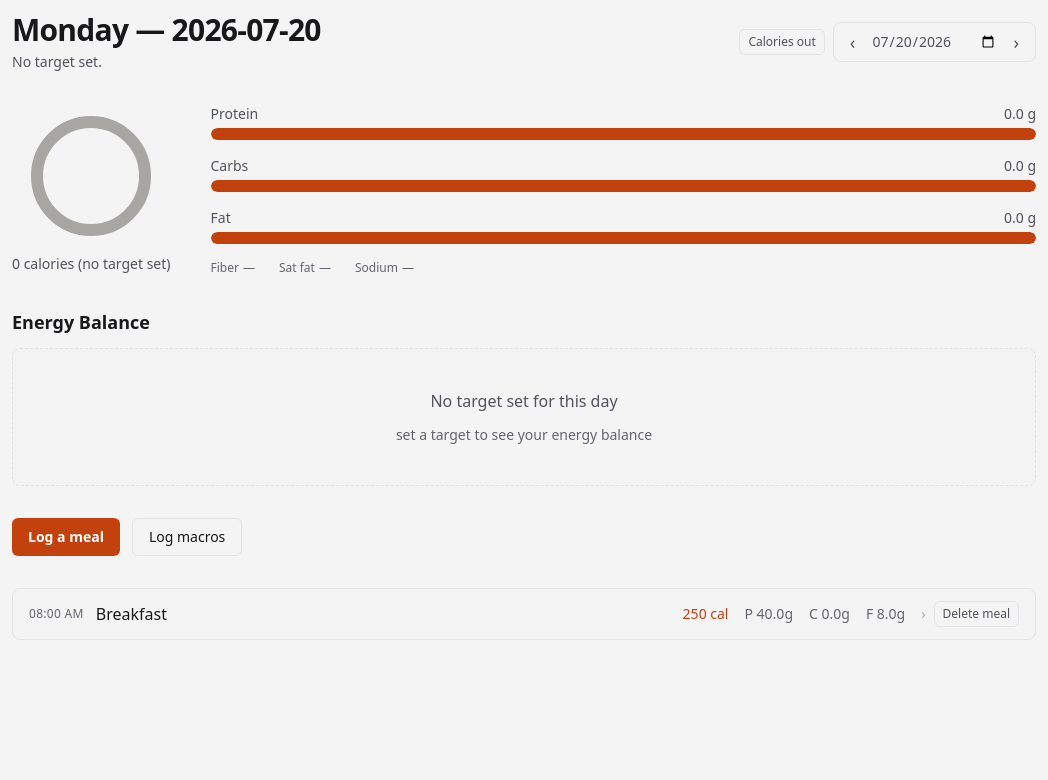
Test: DayView › expands and collapses a meal group
The width and height of the screenshot is (1048, 780).
Check: the text "Chicken breast" is not shown
Step 1. Click the button "08:00 AM Breakfast 250 cal P 40.0g C 0.0g F 8.0g ›" → coordinates (56, 614), box x1=29 y1=602 x2=926 y2=626
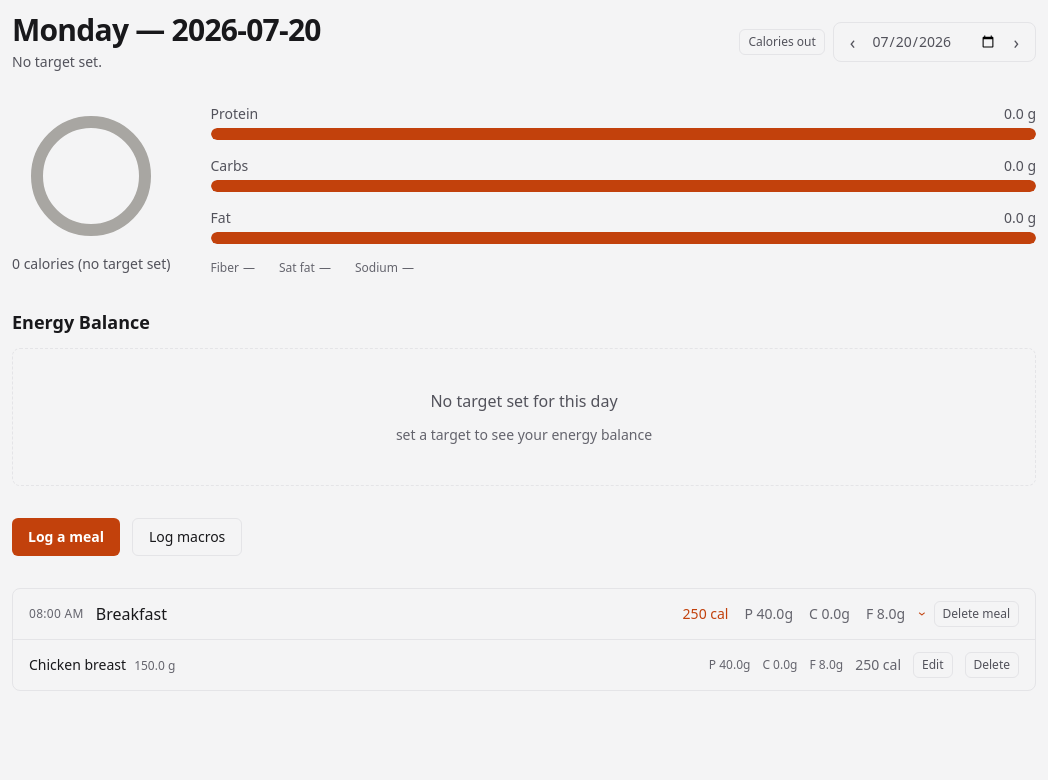
Check: the button "08:00 AM Breakfast 250 cal P 40.0g C 0.0g F 8.0g ›" is expanded
Check: the text "Chicken breast" is shown, box x1=29 y1=655 x2=126 y2=675
Step 2. Click the button "08:00 AM Breakfast 250 cal P 40.0g C 0.0g F 8.0g ›" → coordinates (56, 614), box x1=29 y1=602 x2=926 y2=626
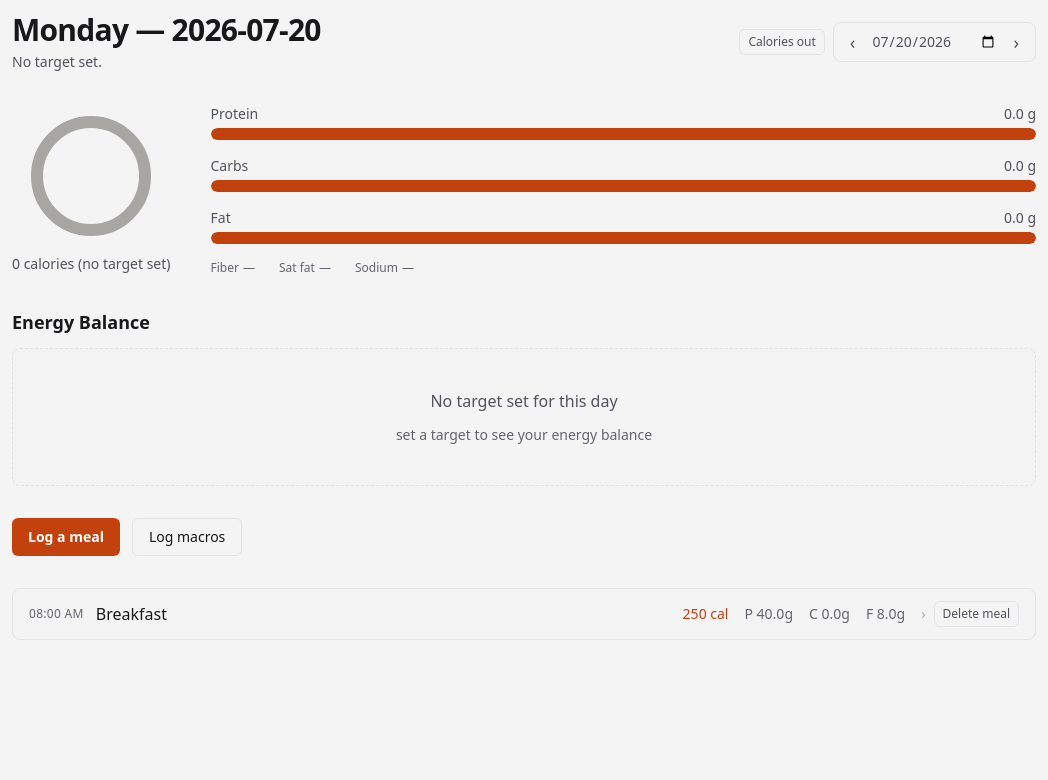
Check: the button "08:00 AM Breakfast 250 cal P 40.0g C 0.0g F 8.0g ›" is collapsed, box x1=29 y1=602 x2=926 y2=626
Check: the text "Chicken breast" is gone
